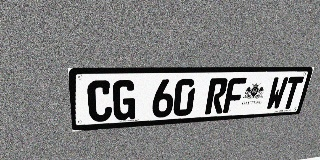0: (172, 79, 196, 117)
6: (152, 79, 176, 118)
C: (87, 80, 112, 122)
F: (223, 78, 247, 113)
G: (113, 80, 136, 121)
R: (205, 78, 229, 114)
T: (280, 77, 304, 109)
W: (265, 77, 289, 110)
